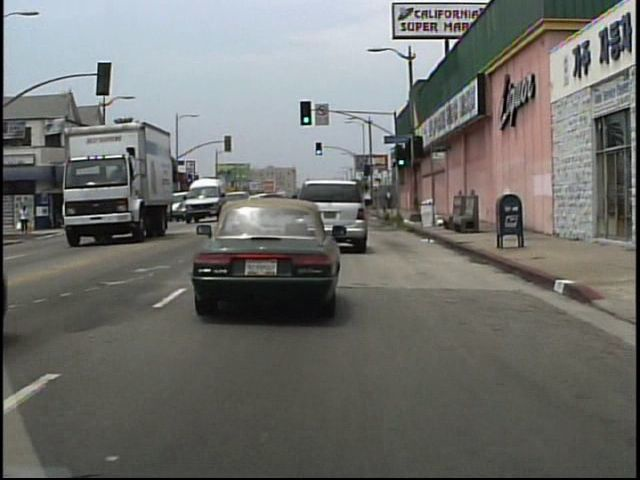person: (21, 206, 32, 235), (385, 188, 395, 210)
